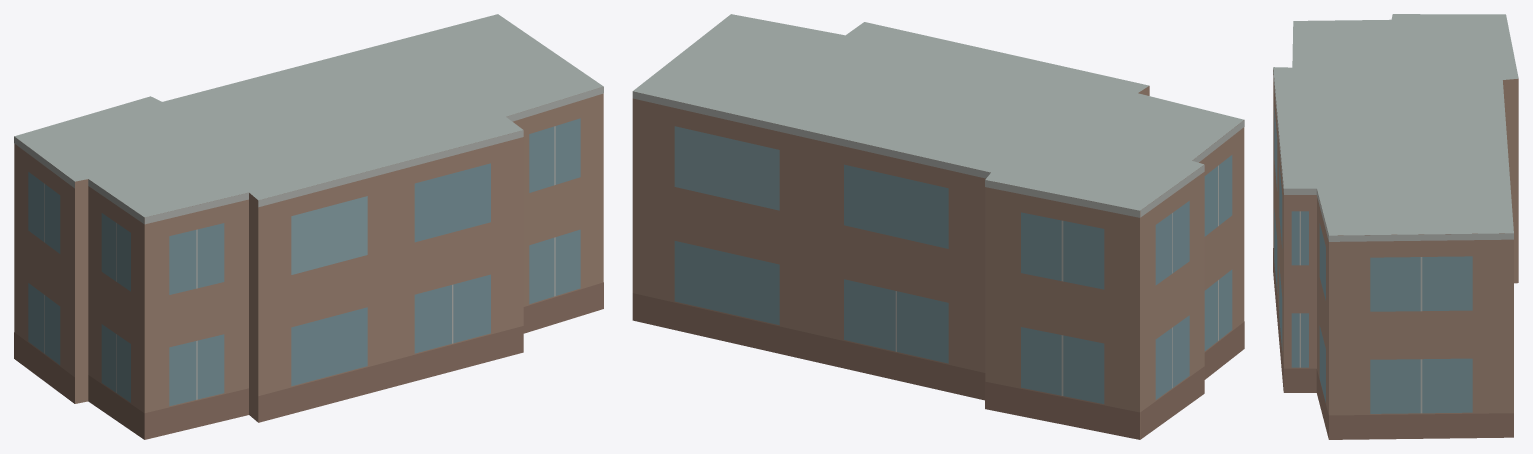
File: survey-upis-32634355.glb
3 views of the same model, side by side, from view 1: azimuth 30°, elevation 25°; view 2: azimuth 150°, elevation 25°; view 3: azimuth 270°, elevation 25° (orthographic). The views are drawn at different scales.
Visible parts, largest first — view 1: survey-upis-32634355.tmp; view 2: survey-upis-32634355.tmp; view 3: survey-upis-32634355.tmp.
Part boxes in pixels (x1,y1,x2,y2): survey-upis-32634355.tmp: (14,14,603,439); survey-upis-32634355.tmp: (632,14,1244,439); survey-upis-32634355.tmp: (1273,14,1518,439).
Bounding box in the file's own units: 18.15 × 7.8 × 8.51.
